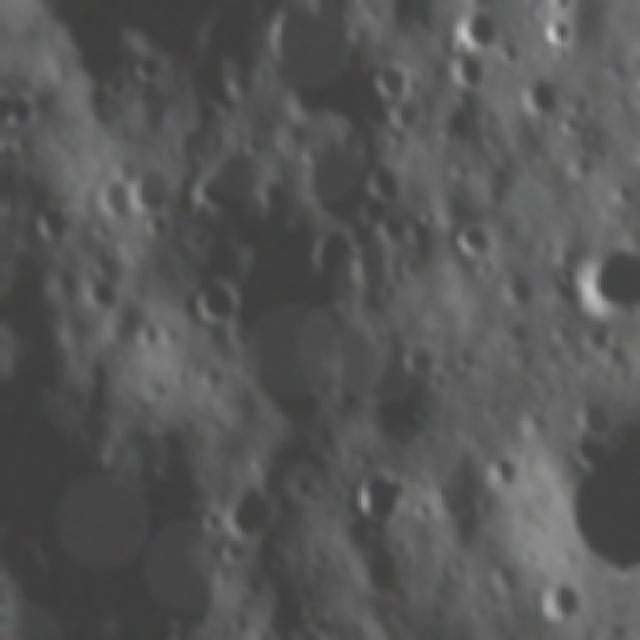crater: (292, 141, 386, 228), (186, 138, 266, 222), (572, 234, 640, 320), (185, 268, 247, 332), (530, 568, 588, 634), (348, 464, 407, 527), (220, 482, 275, 542), (134, 163, 188, 219), (495, 262, 547, 315), (365, 54, 417, 104), (571, 389, 618, 443), (451, 8, 506, 50), (443, 48, 486, 98), (29, 200, 77, 243), (366, 154, 412, 198), (515, 73, 559, 118), (94, 176, 135, 221), (394, 338, 448, 372), (452, 218, 496, 259), (479, 448, 519, 492), (130, 47, 167, 90), (86, 275, 126, 314), (540, 13, 582, 50), (12, 91, 42, 129), (9, 130, 42, 162), (412, 494, 436, 521)
